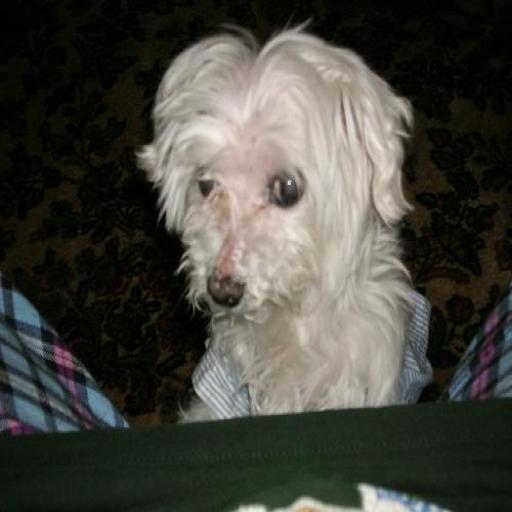dog_face: (155, 33, 401, 313)
